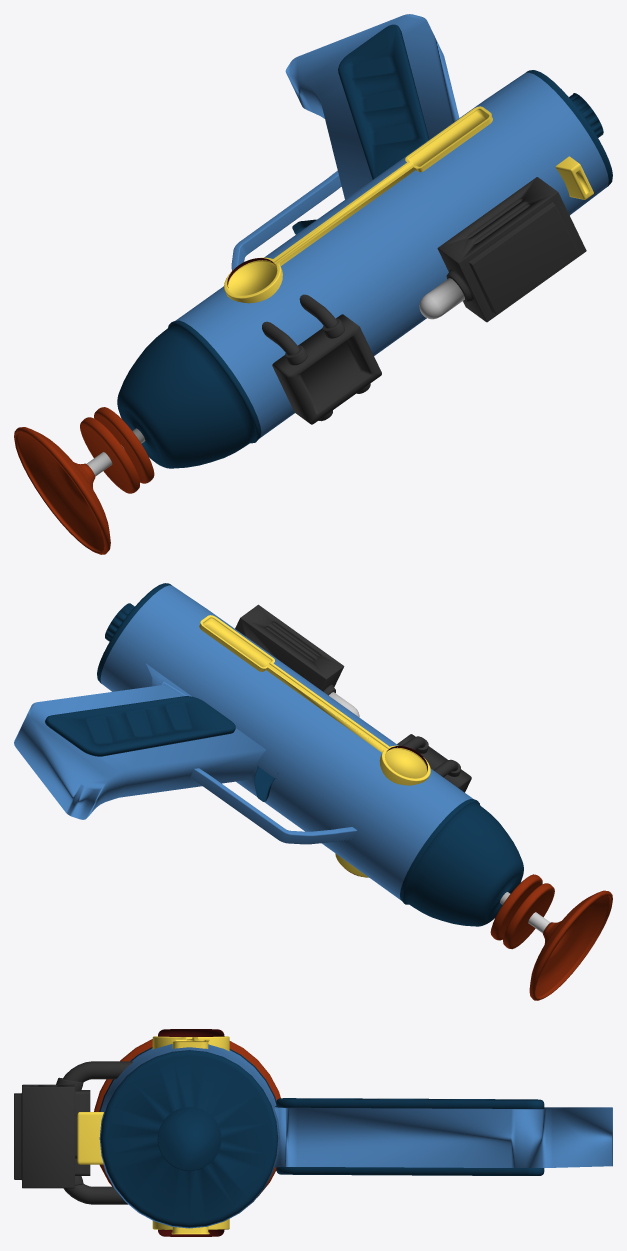
File: Laser Gun.obj
3 views of the same model, one above another, from view 1: azimuth 30°, elevation 25°; view 2: azimuth 150°, elevation 25°; view 3: azimuth 270°, elevation 25° (orthographic). The views are drawn at different scales.
Parts seen in each view (by area): view 1: obj1, obj7, obj2, obj12, obj9, obj13, obj6, obj5, obj3, obj8, obj10, obj14; view 2: obj1, obj2, obj12, obj13, obj6, obj7, obj5, obj3, obj9; view 3: obj1, obj2, obj7, obj12, obj13, obj10, obj14, obj6, obj9.
Part boxes in pixels (<box>): obj1: <box>86,70,612,476</box>; obj7: <box>437,177,586,322</box>; obj2: <box>285,14,459,199</box>; obj12: <box>338,24,429,179</box>; obj9: <box>272,314,381,424</box>; obj13: <box>224,106,492,303</box>; obj6: <box>14,427,110,554</box>; obj5: <box>80,407,154,493</box>; obj3: <box>231,170,341,270</box>; obj8: <box>419,269,473,319</box>; obj10: <box>262,294,363,421</box>; obj14: <box>555,156,593,199</box>; obj1: <box>97,583,550,933</box>; obj2: <box>14,663,265,819</box>; obj12: <box>45,696,235,756</box>; obj13: <box>199,615,430,877</box>; obj6: <box>529,890,612,1000</box>; obj7: <box>235,604,344,691</box>; obj5: <box>490,874,554,949</box>; obj3: <box>190,768,357,844</box>; obj9: <box>397,734,471,792</box>; obj1: <box>99,1044,279,1228</box>; obj2: <box>274,1106,612,1167</box>; obj7: <box>14,1084,77,1188</box>; obj12: <box>276,1098,544,1175</box>; obj13: <box>152,1029,229,1236</box>; obj10: <box>63,1061,132,1204</box>; obj14: <box>77,1112,103,1164</box>; obj6: <box>94,1039,280,1197</box>; obj9: <box>75,1090,90,1175</box>.
Size of the model in its own units: 4.74 by 2.9 by 3.46.
